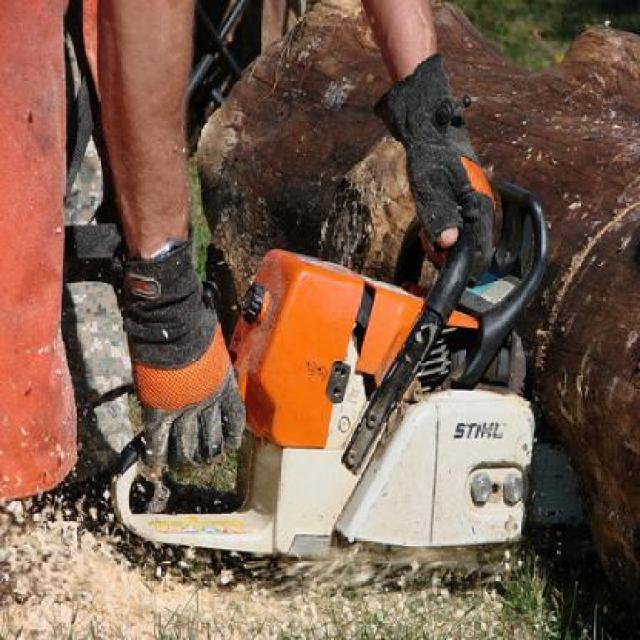Chainsaw: (109, 178, 551, 570)
